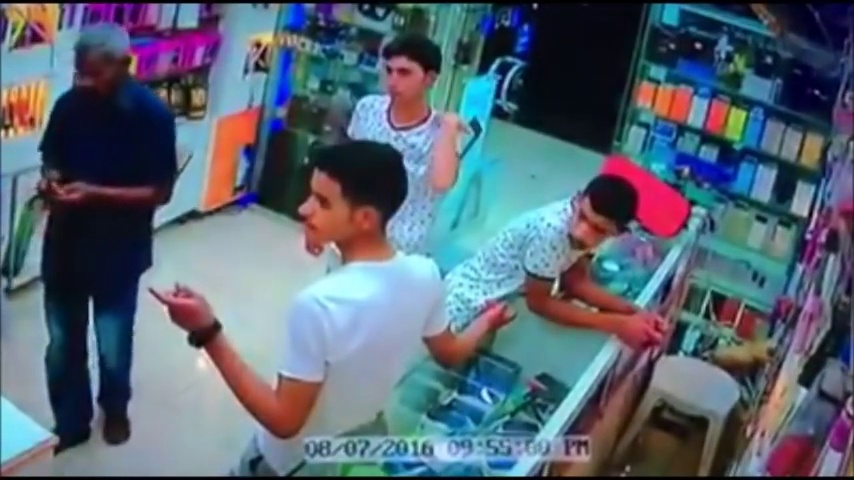face: (295, 162, 361, 251), (66, 37, 123, 100), (563, 202, 615, 253), (384, 58, 424, 99)
